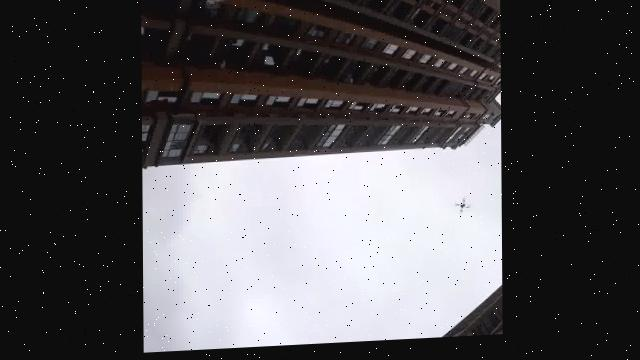drone: (441, 197, 473, 224)
